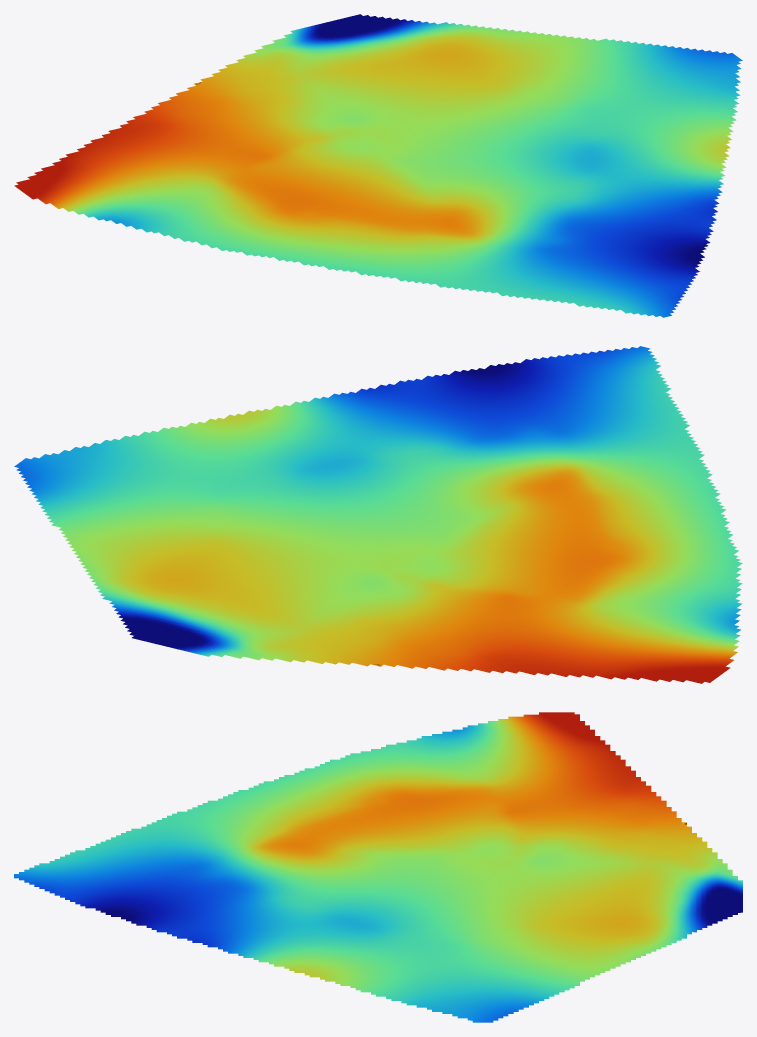
The picture shows the model from 3 angles, top to bottom: view 1: azimuth 30°, elevation 25°; view 2: azimuth 150°, elevation 25°; view 3: azimuth 270°, elevation 25°; orthographic projection. The views are drawn at different scales.
Visible parts, largest first — view 1: PH_kriging; view 2: PH_kriging; view 3: PH_kriging.
Part boxes in pixels (<box>): PH_kriging: <box>14,14,742,317</box>; PH_kriging: <box>14,346,742,683</box>; PH_kriging: <box>14,712,742,1022</box>.
Size of the model in its own units: 648 by 0.1299 by 644.
1 material, 1 textured.
